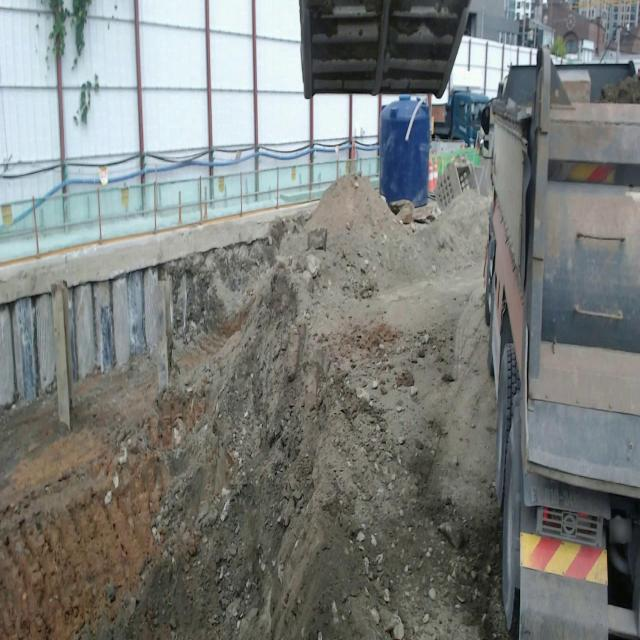white-sand: (0, 176, 507, 639)
